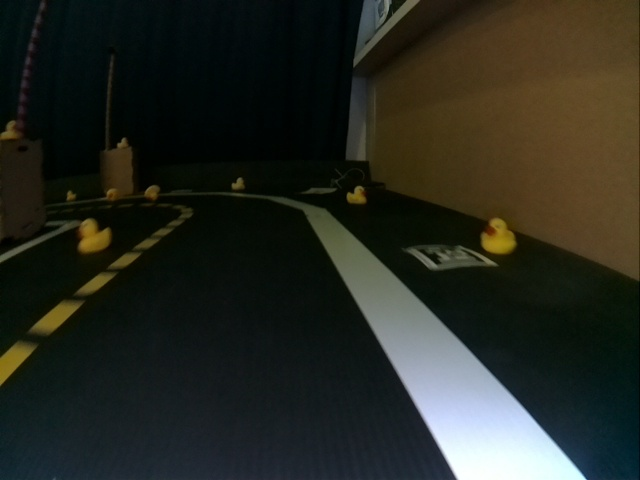Duckie: (482, 217, 517, 254), (78, 219, 111, 253), (1, 119, 22, 140), (347, 186, 368, 204), (144, 185, 160, 200), (232, 177, 245, 190), (117, 137, 127, 147), (67, 190, 75, 200), (106, 189, 115, 197)
QR code: (406, 244, 485, 269)
